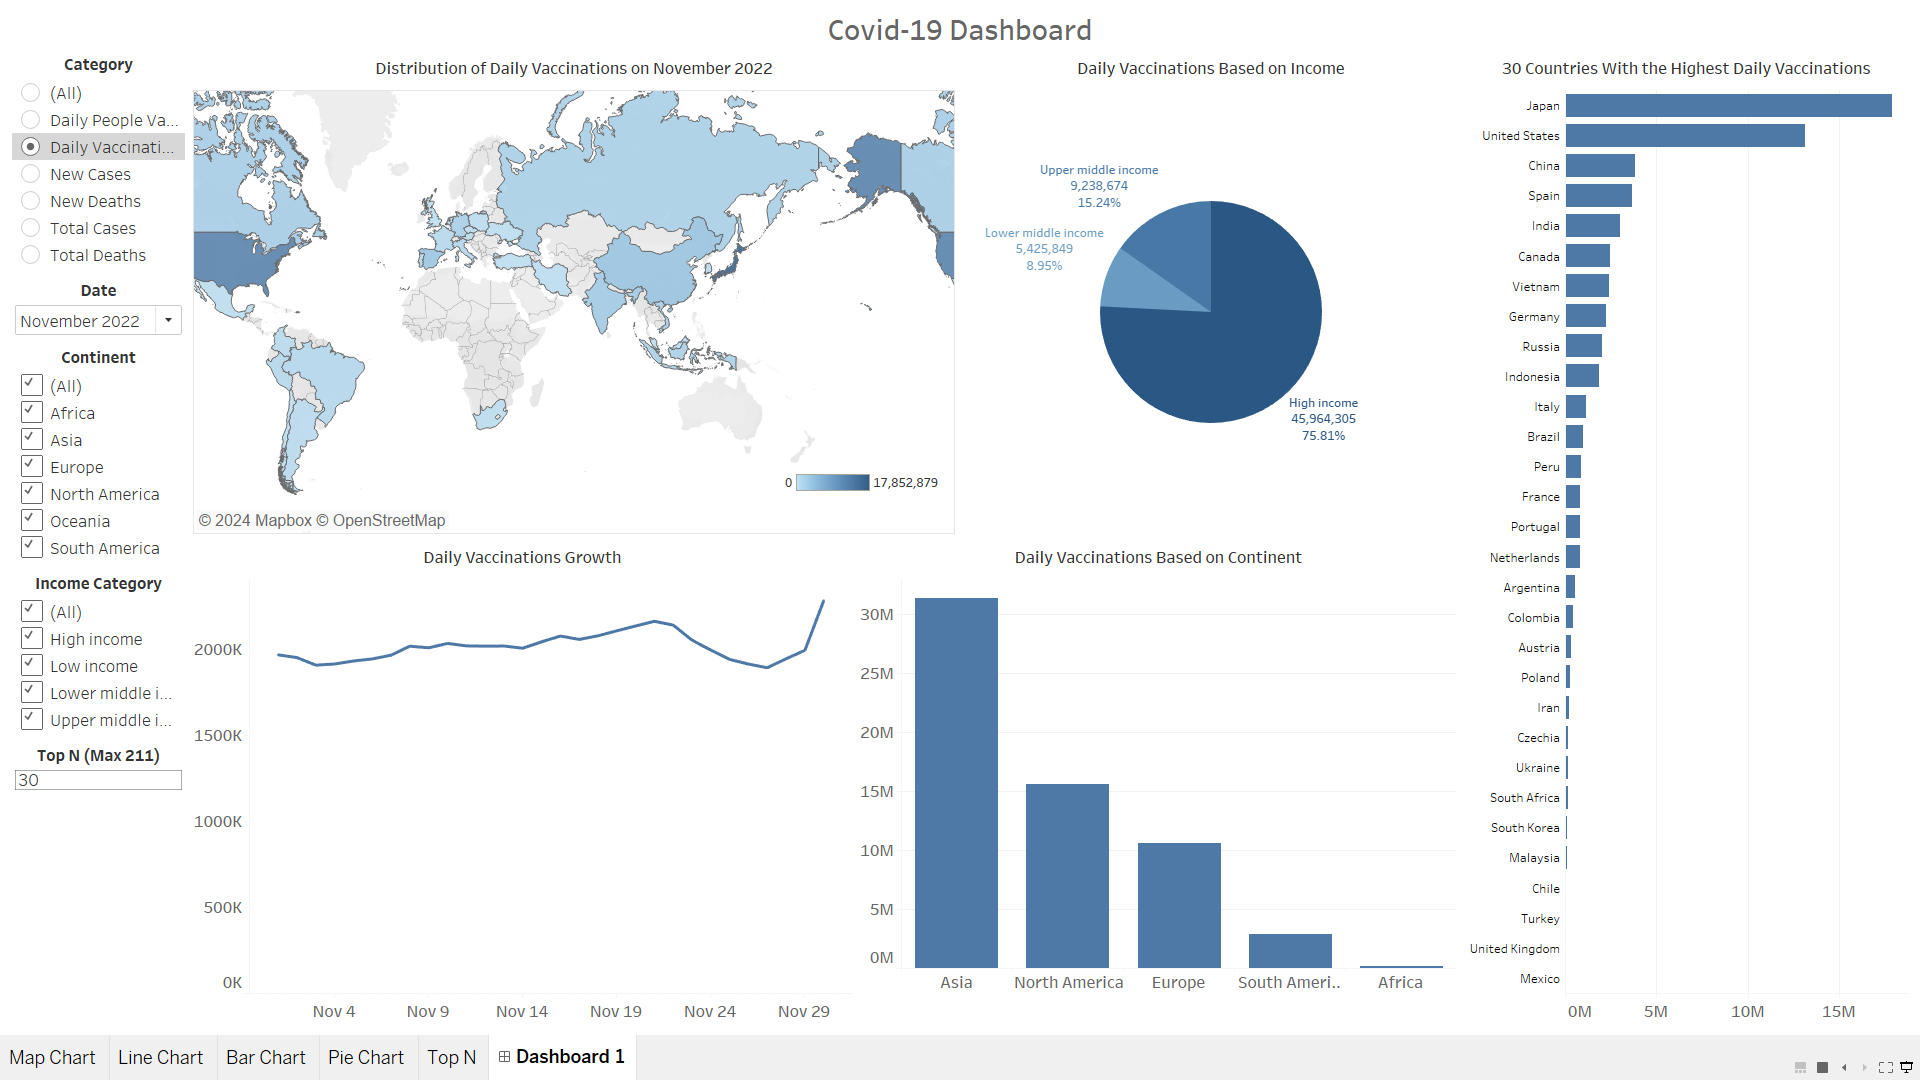

This screenshot's page, from the dashboard's own definition file:
{"tool":"tableau","page":{"name":"Dashboard 1","canvas":[1000,1000],"units":"permille","ordinal":0},"visuals":[{"type":"text","box":[5,9.9,990,39.6]},{"type":"filter","title":"Map Chart","param":"[federated.1imx2vw0lau80l17p85j71ns7iqo].[none:category:nk]","box":[5,49.5,94.3,280.4]},{"type":"worksheet","title":"Map Chart","mark":"Automatic","box":[99.2,49.5,400.6,470.2]},{"type":"worksheet","title":"Pie Chart","mark":"Pie","box":[499.9,49.5,260.8,470.2]},{"type":"worksheet","title":"Top N","mark":"Automatic","rows":["location"],"cols":["value"],"box":[760.7,49.5,234.3,940.6]},{"type":"filter","title":"Map Chart","param":"[federated.1imx2vw0lau80l17p85j71ns7iqo].[my:date:ok]","box":[5,329.9,94.3,83.1]},{"type":"filter","title":"Map Chart","param":"[federated.1imx2vw0lau80l17p85j71ns7iqo].[none:continent:nk]","box":[5,413,94.3,280.4]},{"type":"legend","title":"Map Chart","param":"[federated.1imx2vw0lau80l17p85j71ns7iqo].[sum:value:qk]","box":[406.9,454.1,84.1,48.4]},{"type":"worksheet","title":"Line Chart","mark":"Automatic","rows":["value"],"cols":["date"],"box":[99.2,519.7,346.6,470.4]},{"type":"worksheet","title":"Bar Chart","mark":"Automatic","rows":["value"],"cols":["continent"],"box":[445.8,519.7,314.9,470.4]},{"type":"filter","title":"Map Chart","param":"[federated.1imx2vw0lau80l17p85j71ns7iqo].[none:income_category:nk]","box":[5,693.4,94.3,213.4]},{"type":"parameter","param":"[Parameters].[Parameter 1]","box":[5,906.8,94.3,70.7]}]}

Visuals, with their boxes on the dashboard's canvas, which has no fixed pixel size, in thousandths of its width and height (x1, y1, x2, y2). These are canvas units, not pixel positions in the 1920x1080 screenshot, which may show the page scaled, cropped or inside an application window:
text: (5,10,995,50)
"Map Chart" filter: (5,50,99,330)
"Map Chart" worksheet: (99,50,500,520)
"Pie Chart" worksheet (Pie marks): (500,50,761,520)
"Top N" worksheet: (761,50,995,990)
"Map Chart" filter: (5,330,99,413)
"Map Chart" filter: (5,413,99,693)
"Map Chart" legend: (407,454,491,502)
"Line Chart" worksheet: (99,520,446,990)
"Bar Chart" worksheet: (446,520,761,990)
"Map Chart" filter: (5,693,99,907)
parameter: (5,907,99,978)
